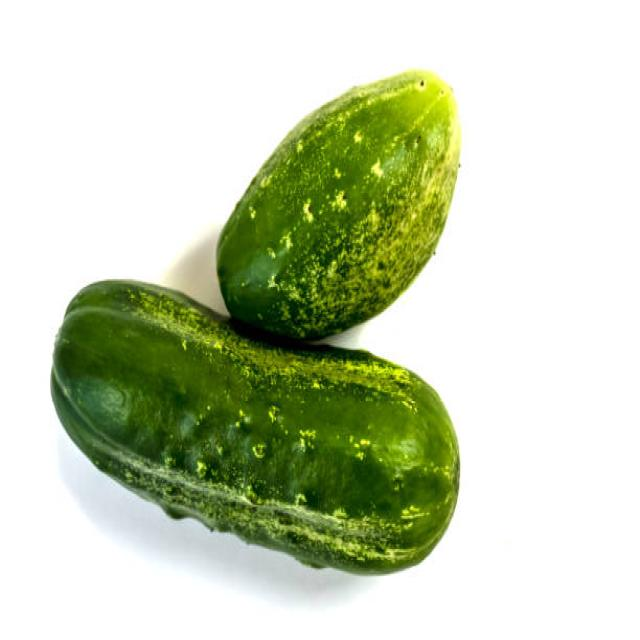cucumber: (51, 279, 460, 575), (214, 70, 461, 342)
